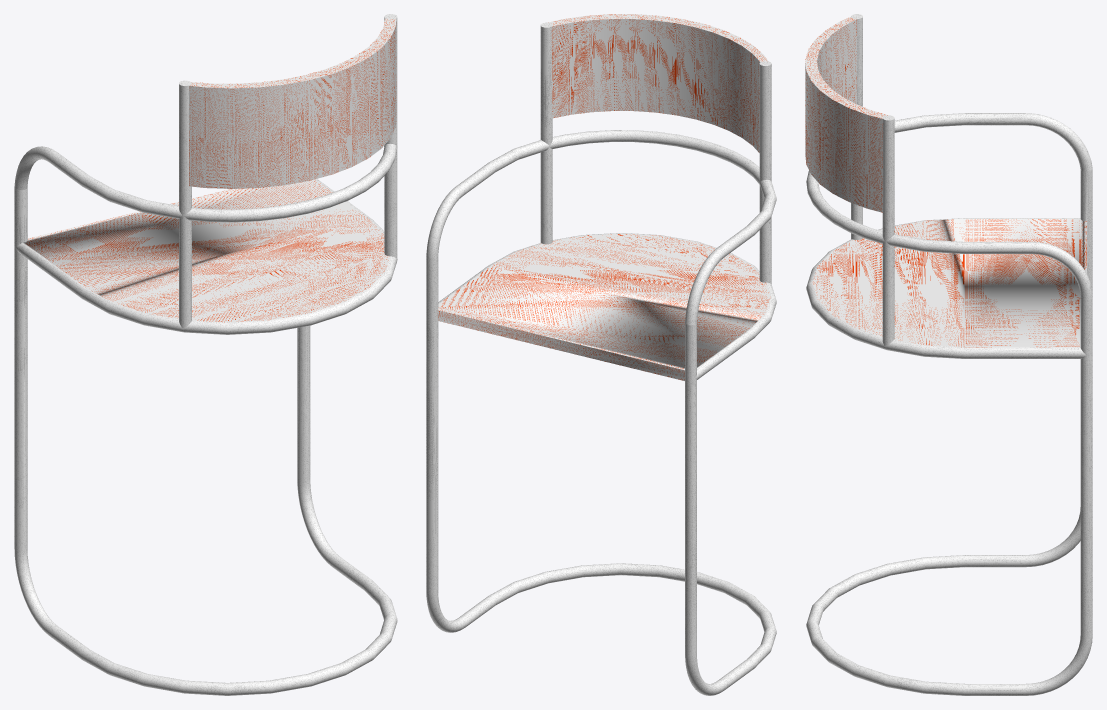
The picture shows the model from 3 angles, left to right: view 1: azimuth 30°, elevation 25°; view 2: azimuth 150°, elevation 25°; view 3: azimuth 270°, elevation 25°; orthographic projection. The views are drawn at different scales.
Visible parts, largest first — view 1: mesh1_mesh1-geometry, mesh2_mesh2-geometry; view 2: mesh1_mesh1-geometry, mesh2_mesh2-geometry; view 3: mesh1_mesh1-geometry, mesh2_mesh2-geometry.
Boxes of the visible parts, bbox=[...] form: mesh1_mesh1-geometry: bbox=[14, 143, 397, 695]; mesh2_mesh2-geometry: bbox=[179, 14, 397, 328]; mesh1_mesh1-geometry: bbox=[426, 130, 776, 695]; mesh2_mesh2-geometry: bbox=[540, 14, 771, 283]; mesh1_mesh1-geometry: bbox=[806, 113, 1092, 695]; mesh2_mesh2-geometry: bbox=[805, 14, 894, 346].
Bounding box in the file's own units: 0.4171 × 0.8263 × 0.3785.
